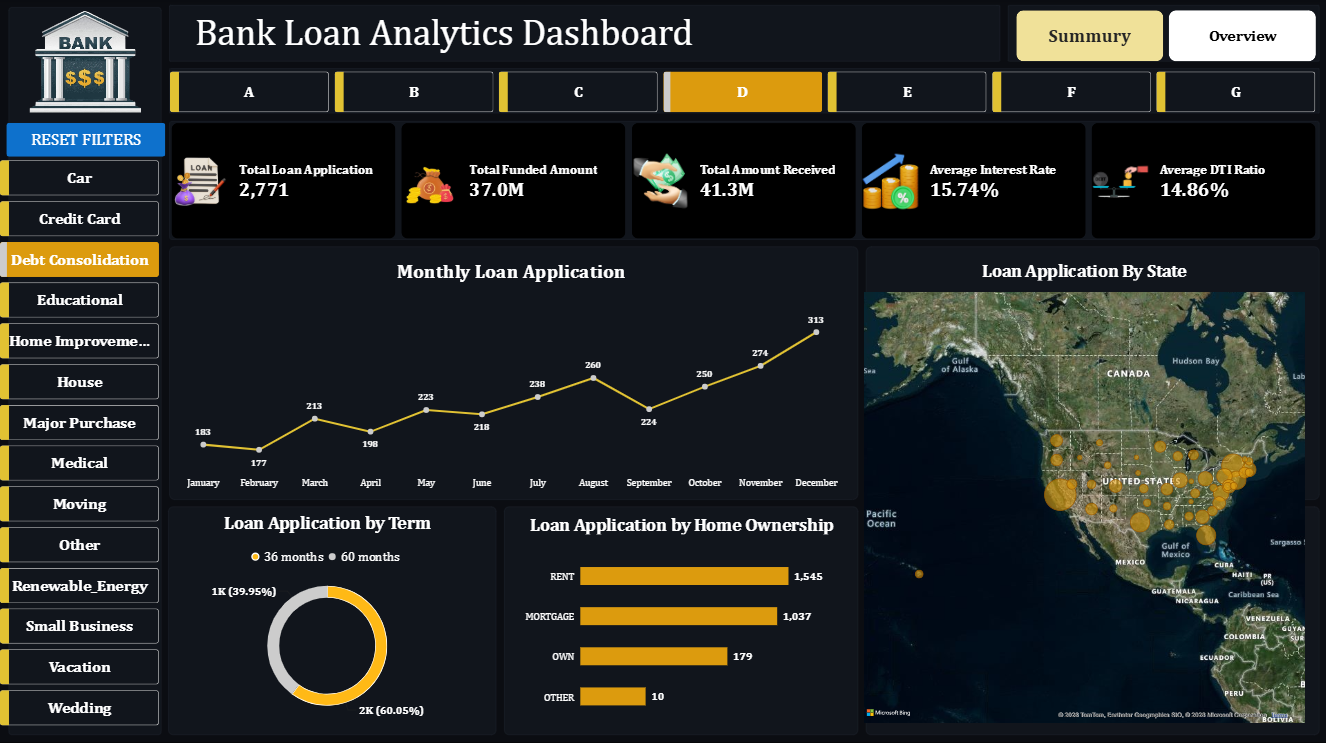

What the dashboard file says about the page in this screenshot:
{"tool":"powerbi","page":{"name":"Overview","canvas":[1920,1080],"ordinal":1},"visuals":[{"type":"cardVisual","fields":{"Data":["financial_loan.Total Loan Application","financial_loan.Total Funded Amount","financial_loan.Total Amount Received","financial_loan.Average Interest Rate","financial_loan.Average DTI Rate"]},"box":[250,187.8,1653.3,153.3],"z":0},{"type":"image","box":[0,0,250,210],"z":1000},{"type":"advancedSlicerVisual","fields":{"Values":["financial_loan.PURPOSE"]},"box":[14.3,264.3,211.4,802.9],"z":2000},{"type":"advancedSlicerVisual","fields":{"Values":["financial_loan.GRADE"]},"box":[260,113,1643,44],"z":3000},{"type":"actionButton","box":[14.3,200,211.4,50],"z":4000},{"type":"textbox","box":[250,24.3,1197.1,68.6],"z":5000},{"type":"pageNavigator","box":[1488.6,24.3,400,50],"z":6000},{"type":"lineChart","title":"Monthly Loan Applications","fields":{"Category":["financial_loan.ISSUE_DATE.Variation.Date Hierarchy.Month"],"Y":["financial_loan.Total Loan Application"]},"box":[250,365.7,985.7,348.6],"z":7000},{"type":"donutChart","title":"Loan Applications by Term","fields":{"Category":["financial_loan.TERM"],"Y":["financial_loan.Total Loan Application"]},"box":[250,738.6,458.6,328.6],"z":8000},{"type":"clusteredBarChart","title":"Loan Applications by Home Ownership","fields":{"Category":["financial_loan.HOME_OWNERSHIP"],"Y":["financial_loan.Total Loan Application"]},"box":[742.9,741.4,492.9,321.4],"z":9000},{"type":"treemap","title":"Loan Applications by Purpose","fields":{"Group":["financial_loan.PURPOSE"],"Values":["financial_loan.Total Loan Application"]},"box":[1271.4,738.6,617.1,324.3],"z":10000},{"type":"map","fields":{"Category":["financial_loan.ADDRESS_STATE"]},"box":[1250.5,365.6,653.3,349.3],"z":10001}]}

Visuals, with their boxes in screenshot pixels (x1, y1, x2, y2), scaled from the page's 1920x1080 canvas onto the 1326x743 screenshot:
cardVisual - financial_loan.Total Loan Application x financial_loan.Total Funded Amount: (x1=173, y1=129, x2=1314, y2=235)
image: (x1=0, y1=0, x2=173, y2=144)
advancedSlicerVisual - financial_loan.PURPOSE: (x1=10, y1=182, x2=156, y2=734)
advancedSlicerVisual - financial_loan.GRADE: (x1=180, y1=78, x2=1314, y2=108)
actionButton: (x1=10, y1=138, x2=156, y2=172)
textbox: (x1=173, y1=17, x2=999, y2=64)
pageNavigator: (x1=1028, y1=17, x2=1304, y2=51)
"Monthly Loan Applications" lineChart: (x1=173, y1=252, x2=853, y2=491)
"Loan Applications by Term" donutChart: (x1=173, y1=508, x2=489, y2=734)
"Loan Applications by Home Ownership" clusteredBarChart: (x1=513, y1=510, x2=853, y2=731)
"Loan Applications by Purpose" treemap: (x1=878, y1=508, x2=1304, y2=731)
map - financial_loan.ADDRESS_STATE: (x1=864, y1=252, x2=1315, y2=492)
